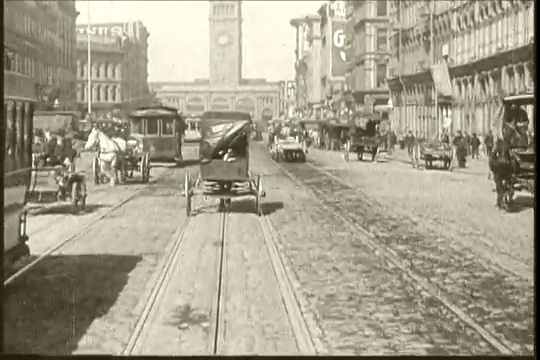carriage: (179, 105, 268, 217), (472, 84, 540, 216), (15, 101, 83, 221), (76, 123, 152, 184), (340, 119, 389, 171), (260, 117, 313, 163), (406, 129, 455, 177)
trolley: (122, 98, 184, 167)
